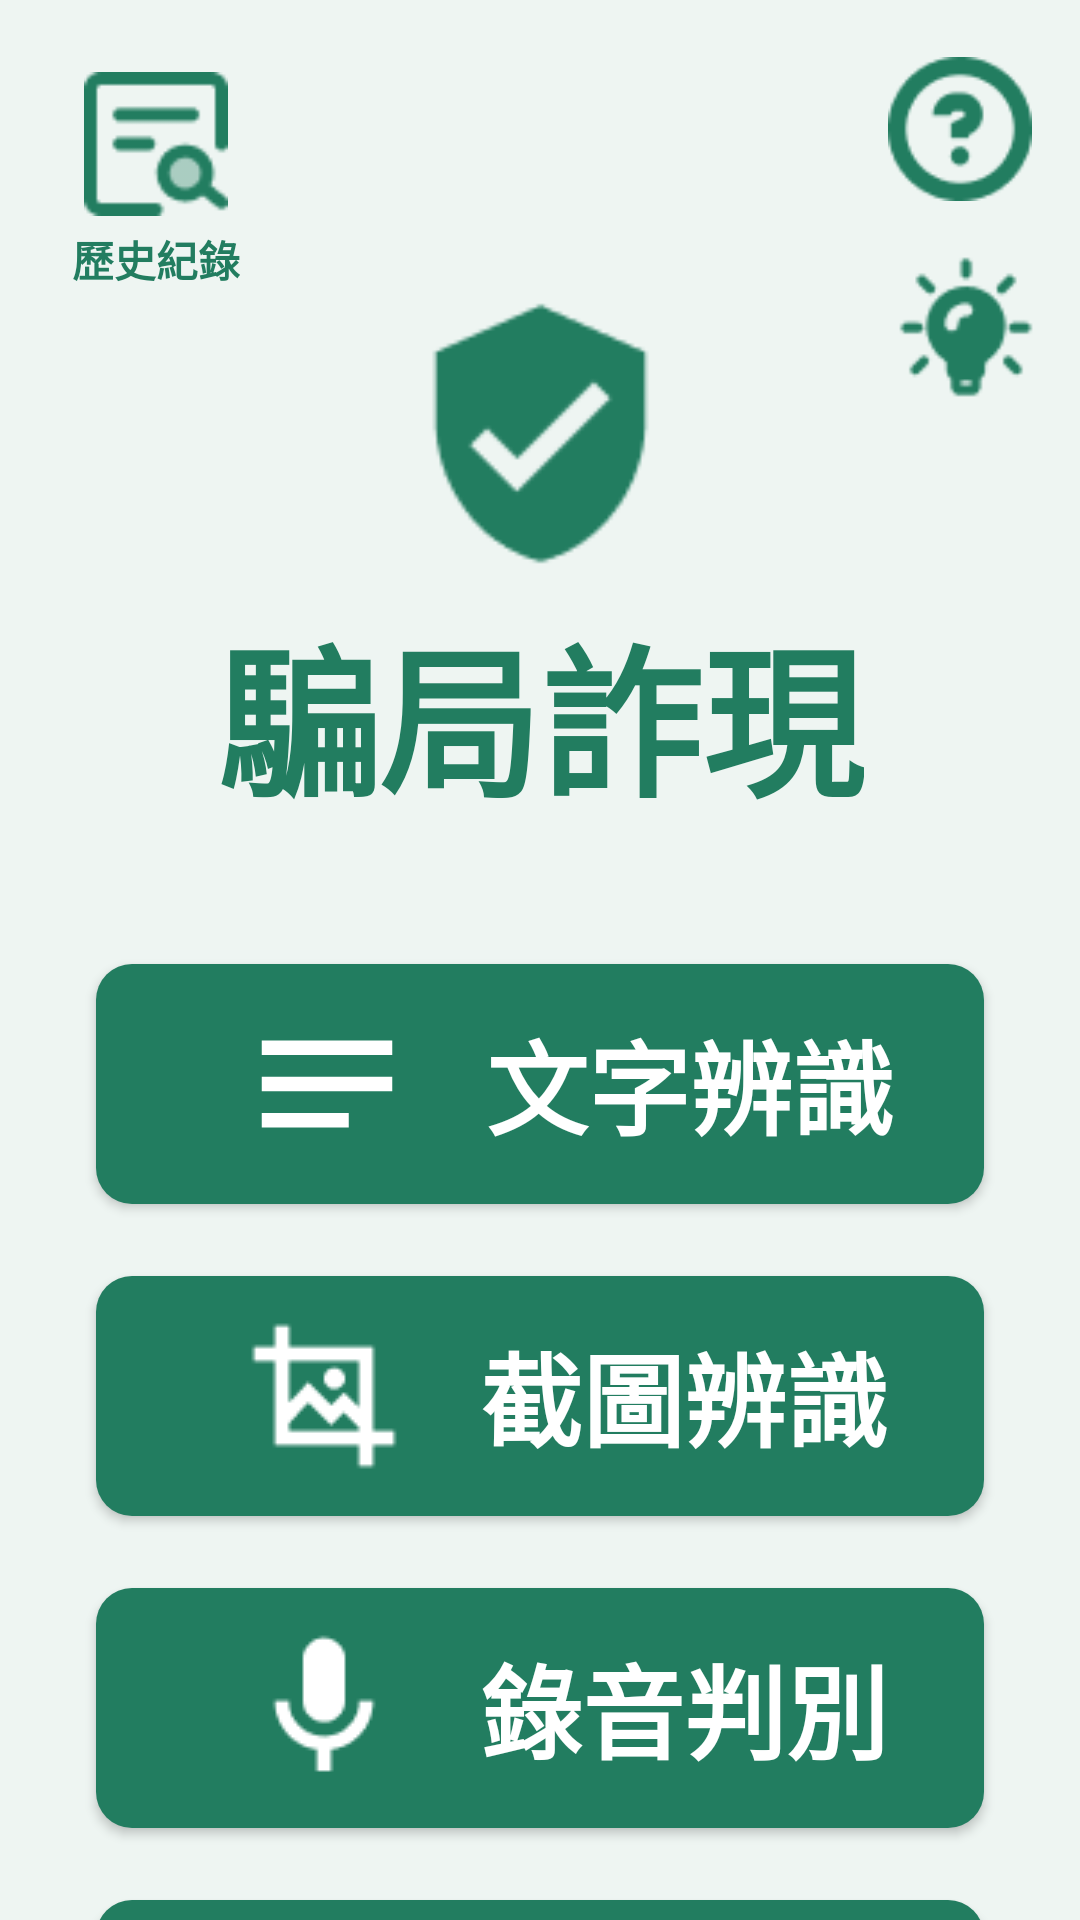

Icons on this 1080 x 1920 Android screen, each with the point to tap as (x,y):
qmark: (960,129)
tick: (540,433)
